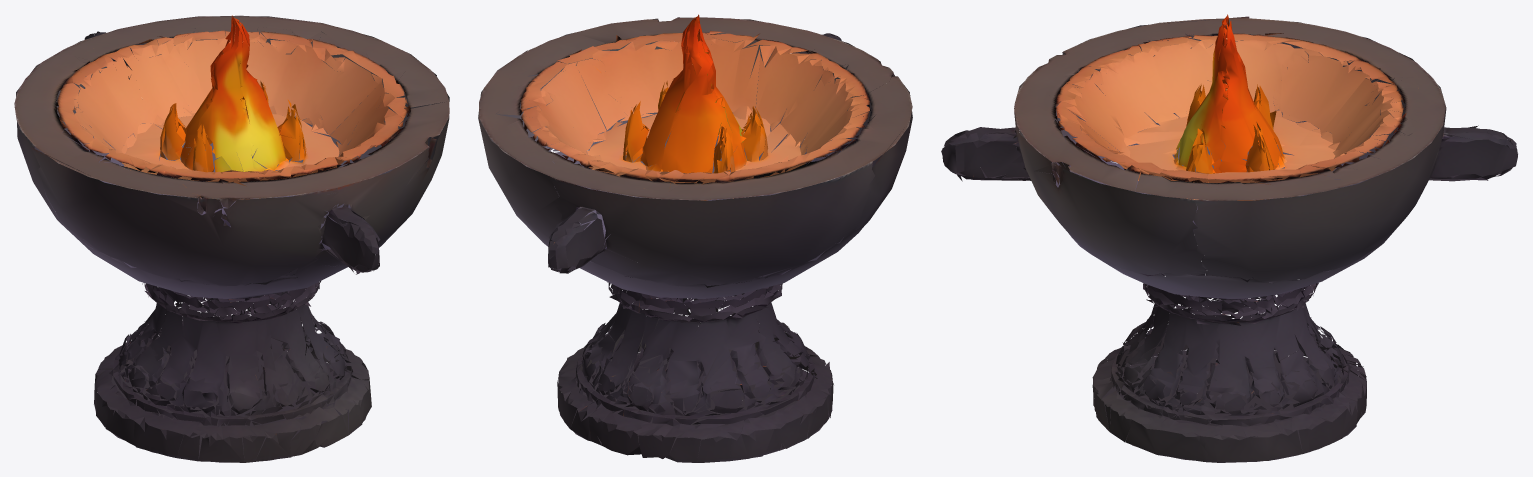
File: Lab_Brazier.glb
3 views of the same model, side by side, from view 1: azimuth 30°, elevation 25°; view 2: azimuth 150°, elevation 25°; view 3: azimuth 270°, elevation 25° (orthographic).
Parts seen in each view (by area): view 1: Lab_Brazier; view 2: Lab_Brazier; view 3: Lab_Brazier.
Boxes of the visible parts, x1,y1,x2,y2 form: Lab_Brazier: (14, 15, 449, 462); Lab_Brazier: (478, 14, 912, 462); Lab_Brazier: (941, 14, 1517, 462).
Size of the model in its own units: 1.22 by 1.2 by 1.61.
Materials: 1 (1 with a texture image).
